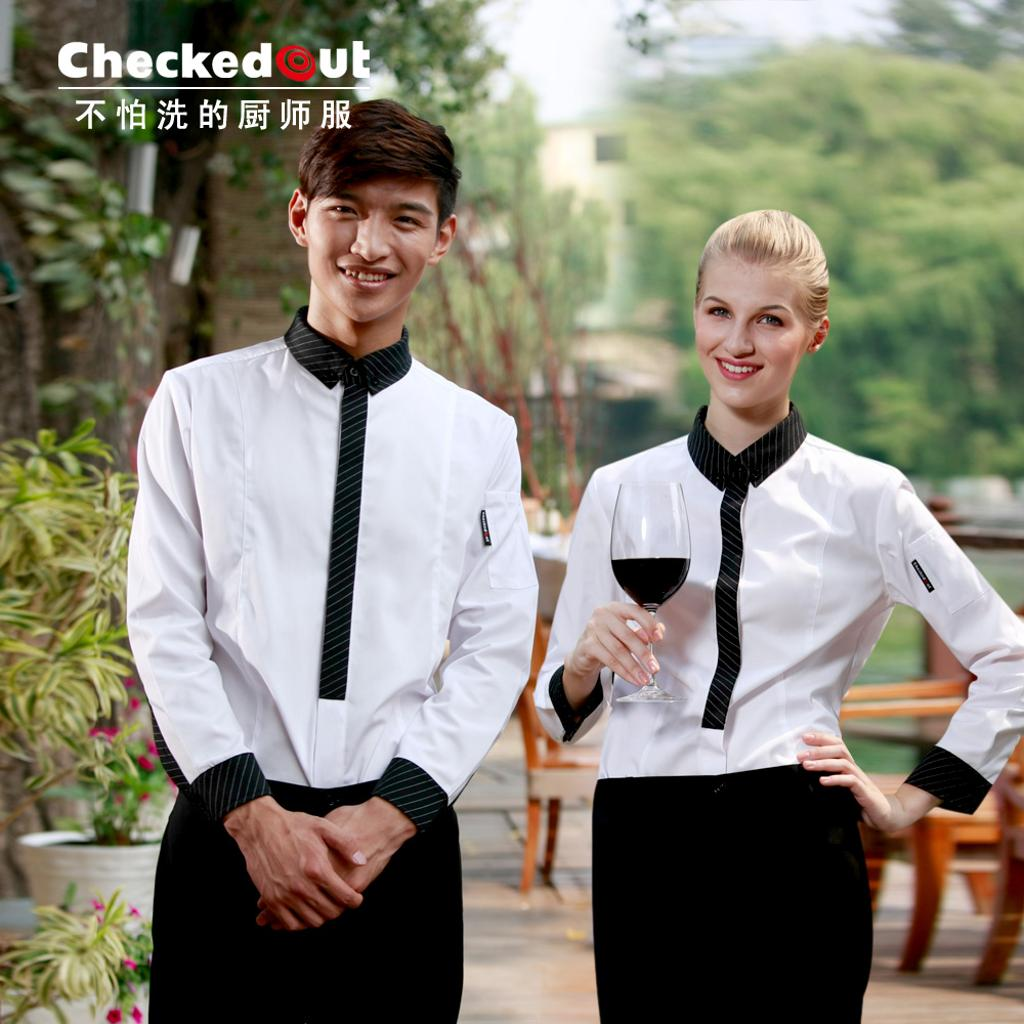face: (304, 144, 442, 326), (698, 240, 802, 412)
